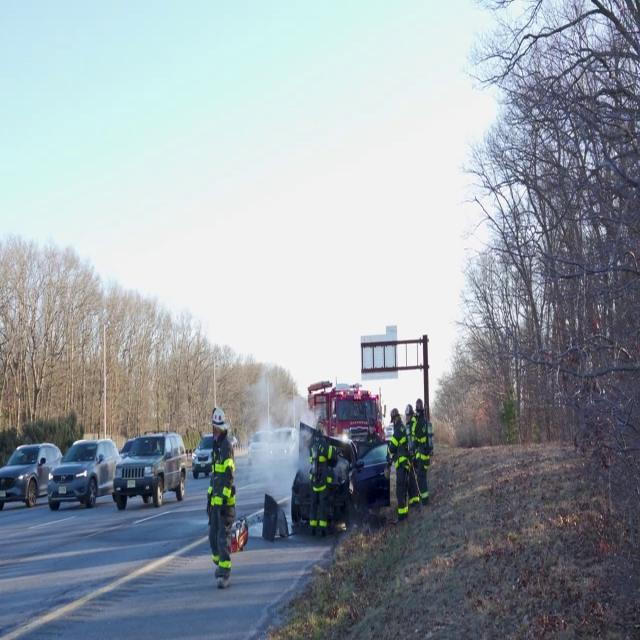Smoke: (238, 354, 316, 502)
